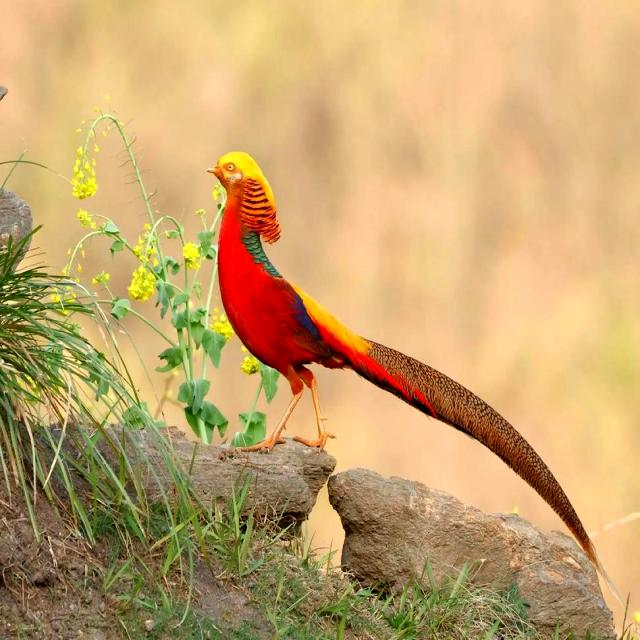Chrysolophus pictus feather: (364, 341, 626, 608)
